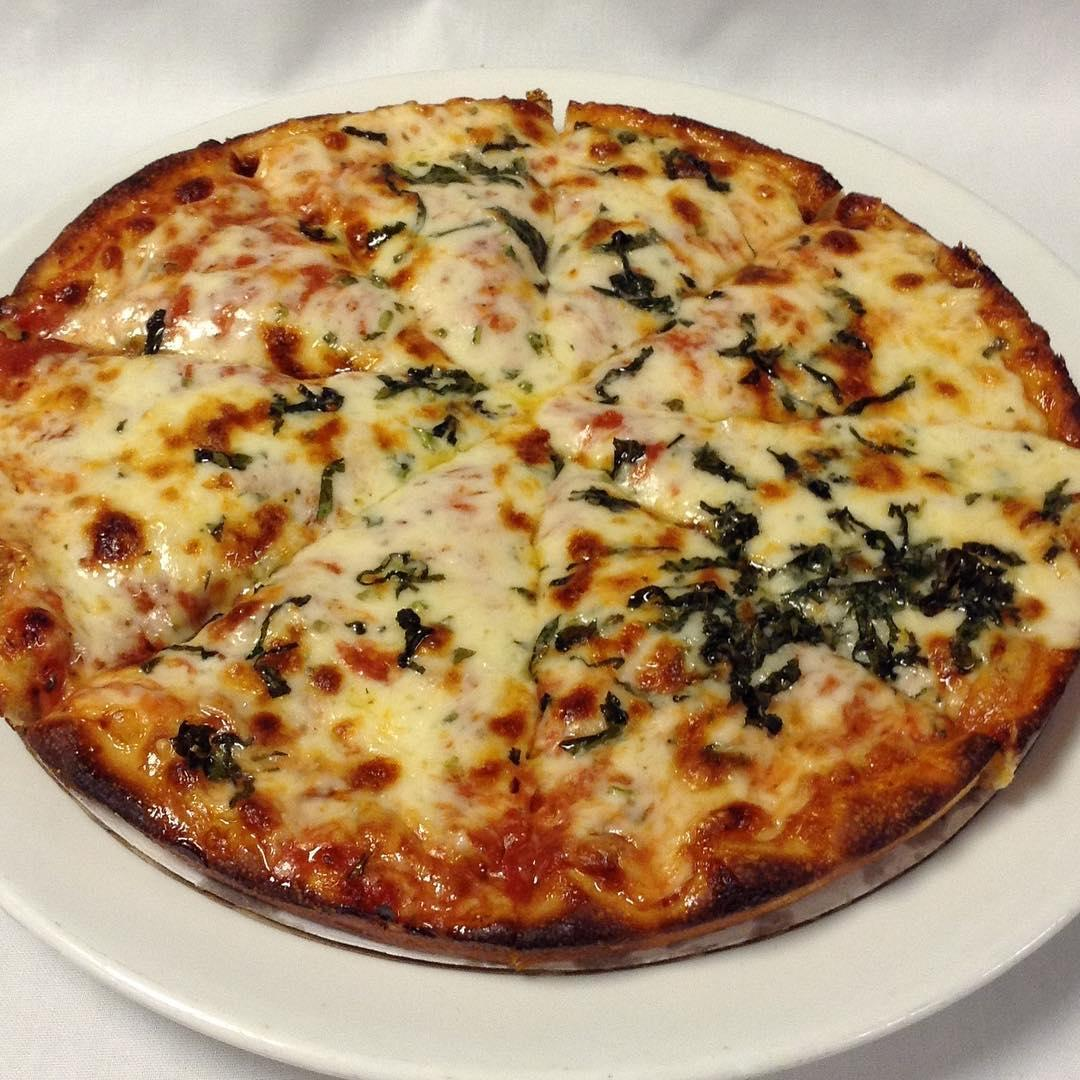Cheese: (251, 492, 535, 627), (534, 338, 743, 519), (220, 248, 524, 340), (525, 249, 803, 339), (70, 381, 198, 571), (417, 172, 698, 247), (237, 394, 437, 490)
Pizza: (0, 99, 1080, 950)
